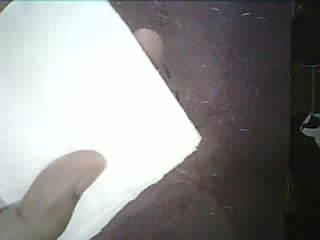paper: (0, 1, 199, 239)
